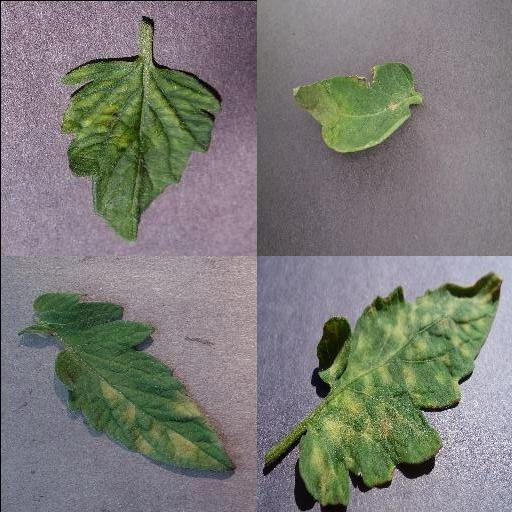Late Blight: (291, 64, 417, 154)
Leaf Mold: (295, 273, 503, 508), (31, 292, 235, 472)
Mosaic Virus: (58, 58, 222, 244)
